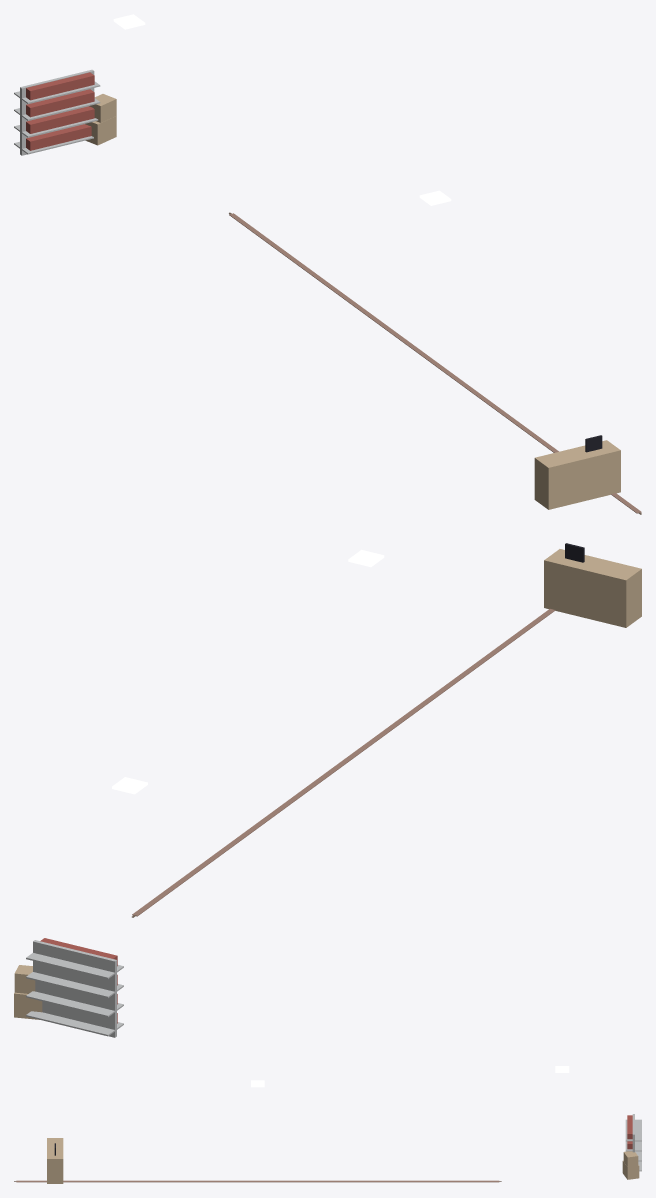
Rendered from fine-s0.glb.
The picture shows the model from 3 angles, top to bottom: view 1: azimuth 30°, elevation 25°; view 2: azimuth 150°, elevation 25°; view 3: azimuth 270°, elevation 25°; orthographic projection. The views are drawn at different scales.
Parts seen in each view (by area): view 1: shelving.000, shop-counter.000, soft-s0, cardboard-box.000; view 2: shelving.000, shop-counter.000, soft-s0, cardboard-box.000; view 3: soft-s0, shop-counter.000, shelving.000, cardboard-box.000.
Boxes of the visible parts, box(x1,y1,x2,y2) form: shelving.000: box(14, 69, 100, 155); shop-counter.000: box(534, 435, 620, 509); soft-s0: box(229, 212, 641, 514); cardboard-box.000: box(85, 94, 116, 145); shelving.000: box(26, 938, 123, 1037); shop-counter.000: box(544, 543, 641, 627); soft-s0: box(132, 609, 555, 917); cardboard-box.000: box(14, 965, 42, 1019); soft-s0: box(14, 1180, 501, 1182); shop-counter.000: box(47, 1138, 63, 1183); shelving.000: box(625, 1114, 641, 1171); cardboard-box.000: box(622, 1151, 639, 1179).
Bounding box in the file's own units: 2.66 × 3.96 × 22.86.
